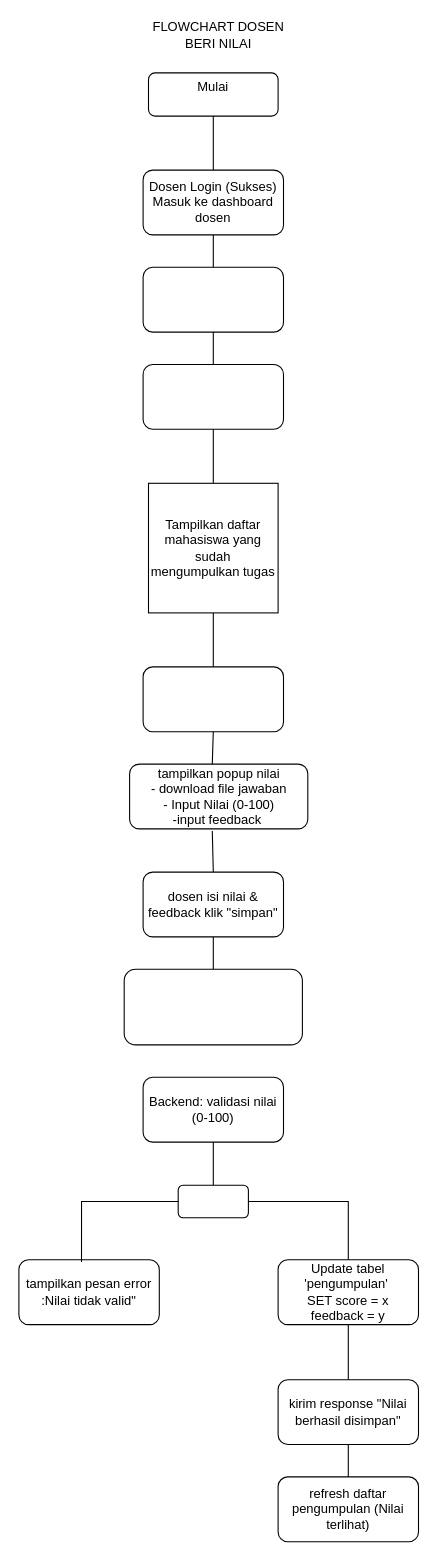
Image size: 437x1561. Some labels were removed from this diagram. Each missing label, with the centre of its shape:
kirim request ke backend PUT/dosen/pengumpulan/:id: [212,1006]
klik aksi disalah satu tugas tugas mahasiswa: [213,699]
masuk ke halaman detail tugas + daftar pengumpulan: [213,396]
Pilih salah satu tugas (dari daftar tugas): [213,299]
valid: [212,1201]
